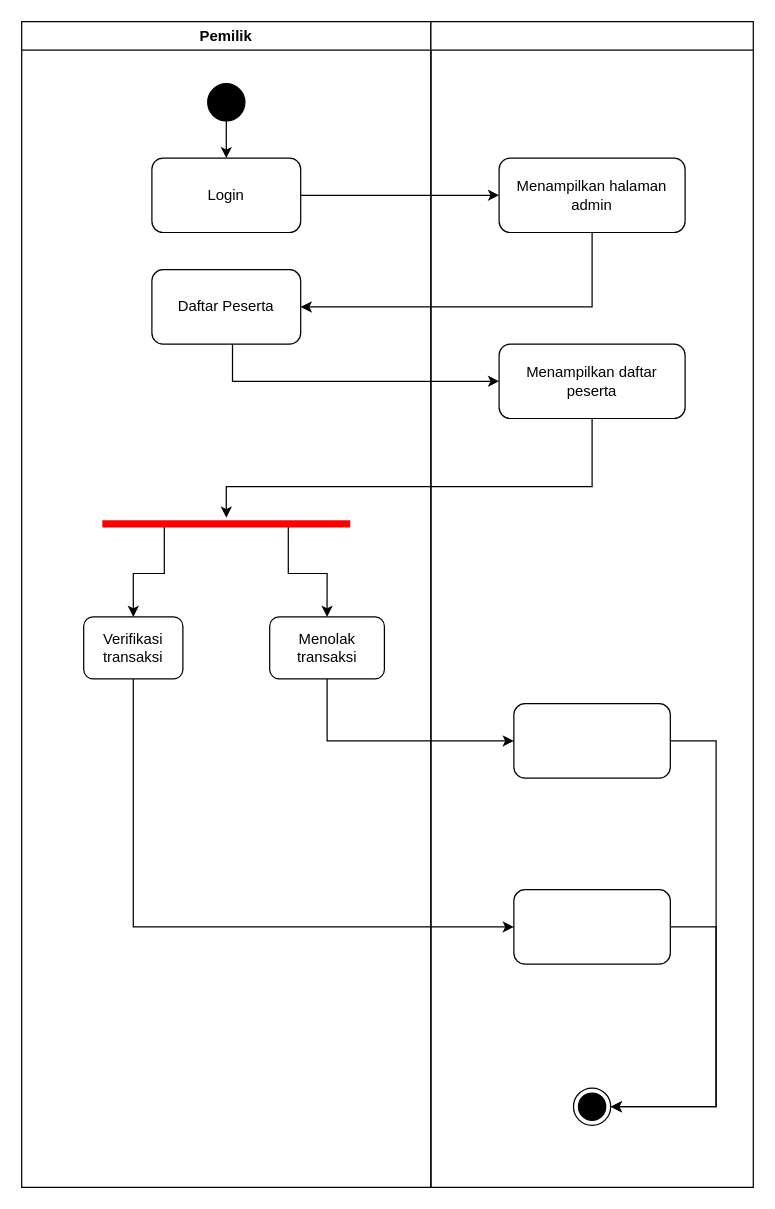
This 775x1209 diagram has some shape labels left out. The box of each missing label's shape, as (x1, y1, x2, y2) in pixels:
Sistem: (430, 20, 753, 1187)
Status peserta menjadi approved: (513, 888, 670, 964)
Status peserta menjadi rejected: (513, 702, 670, 778)
